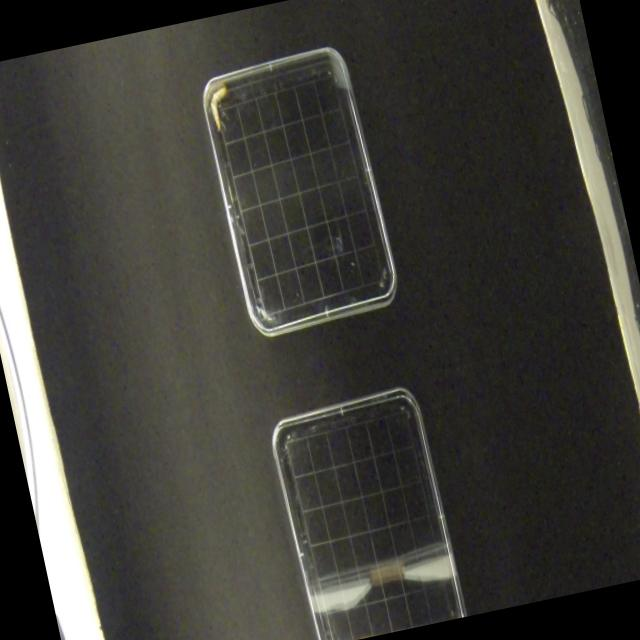larva: (208, 82, 236, 132)
